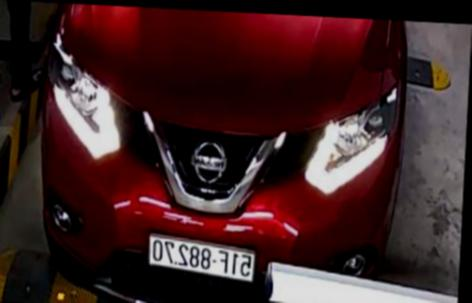License_Plate: (140, 232, 264, 285)
